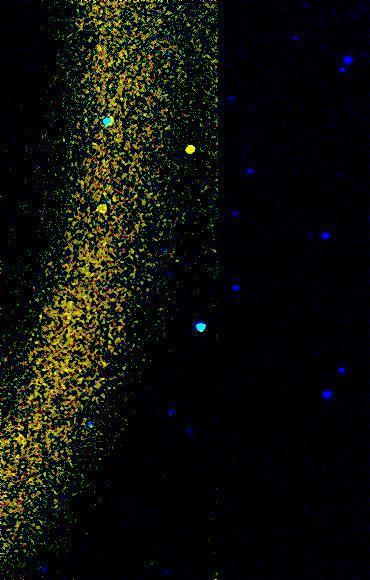star: (85, 194, 115, 224)
